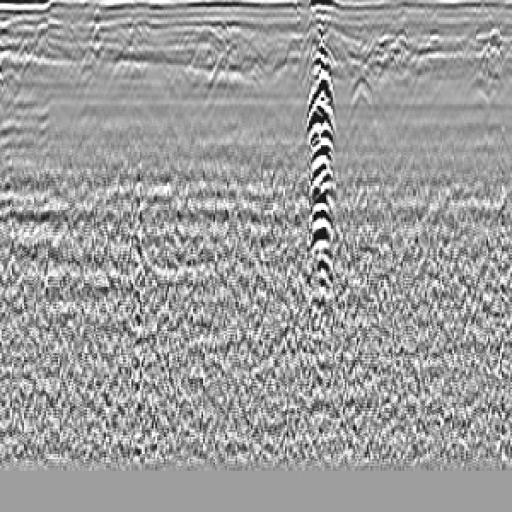metalic: (295, 12, 356, 302)
nonmetalic: (342, 60, 394, 143)
